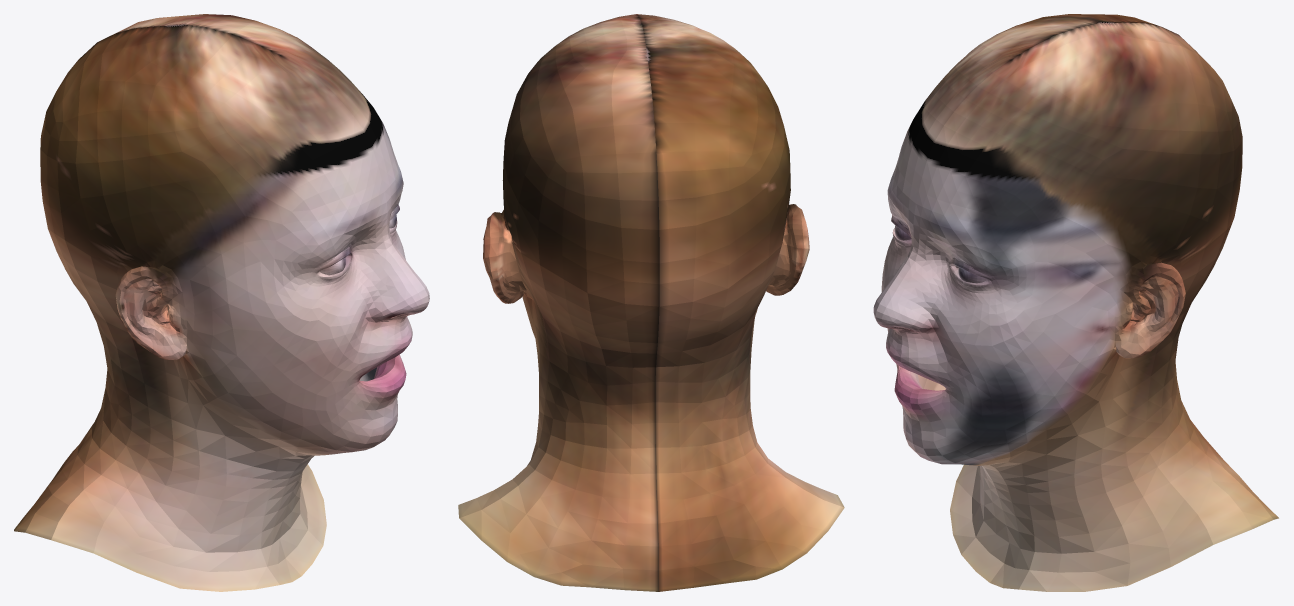
File: cheo1_frame0009.obj
The picture shows the model from 3 angles, left to right: view 1: azimuth 30°, elevation 25°; view 2: azimuth 150°, elevation 25°; view 3: azimuth 270°, elevation 25°; orthographic projection.
Bounding box in the file's own units: 0.2141 × 0.3207 × 0.2223.
1 material, 1 textured.
